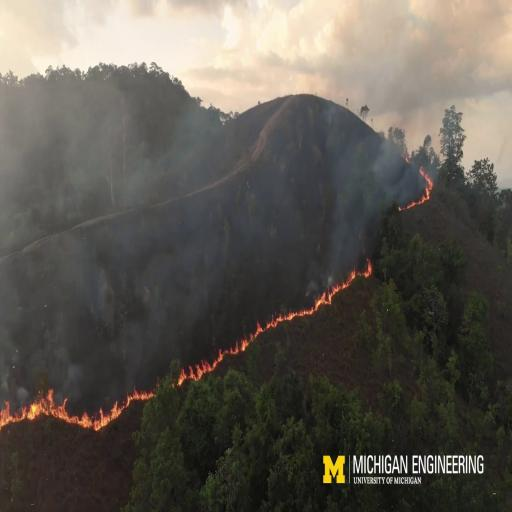fire: (4, 381, 134, 455), (181, 330, 252, 378), (326, 267, 380, 315), (399, 154, 437, 216), (250, 292, 321, 324)
